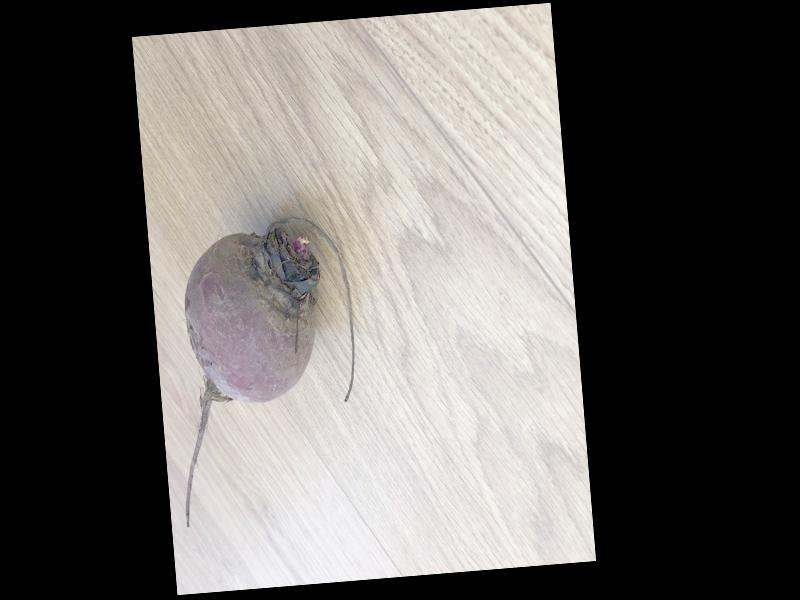Beet: (162, 215, 368, 528)
